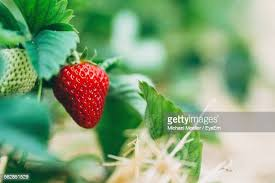ripe: (50, 54, 115, 132)
unripe: (2, 39, 37, 101)
